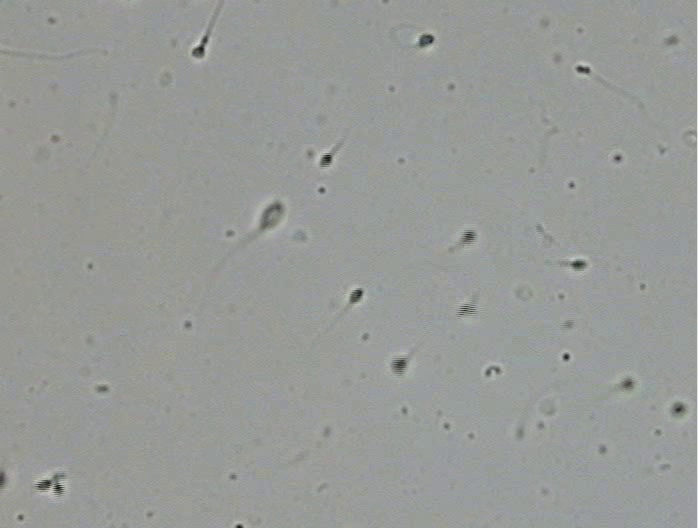S: (259, 201, 283, 232), (391, 356, 407, 375), (457, 302, 477, 317), (460, 230, 477, 244), (349, 288, 363, 304), (35, 479, 52, 491), (418, 34, 435, 46), (52, 482, 65, 497), (319, 153, 332, 168), (571, 259, 587, 271), (619, 378, 635, 390), (192, 45, 205, 59), (575, 64, 591, 75), (672, 404, 686, 416), (1, 472, 6, 490)
